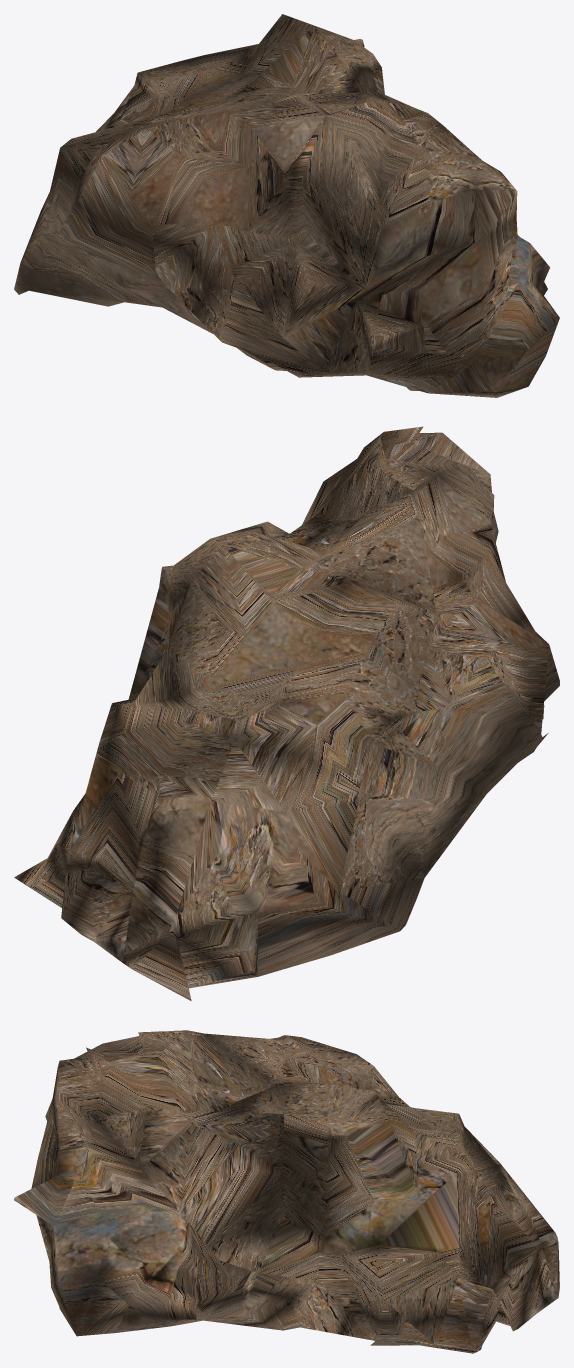
Rendered from boulder_01_lod2.glb.
The picture shows the model from 3 angles, top to bottom: view 1: azimuth 30°, elevation 25°; view 2: azimuth 150°, elevation 25°; view 3: azimuth 270°, elevation 25°; orthographic projection. The views are drawn at different scales.
Parts seen in each view (by area): view 1: boulder_01; view 2: boulder_01; view 3: boulder_01.
Part boxes in pixels (x1,y1,x2,y2): boulder_01: (14,14,559,397); boulder_01: (14,426,559,1001); boulder_01: (14,1030,559,1353).
Size of the model in its own units: 1.26 by 0.9541 by 1.77.
Materials: 1 (1 with a texture image).
